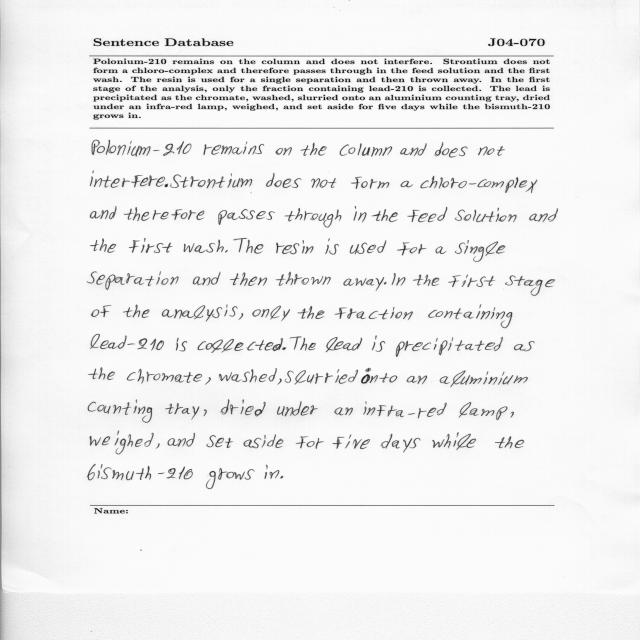word: (396, 337, 503, 357), (421, 176, 538, 193), (429, 305, 513, 328), (87, 464, 193, 481), (92, 140, 192, 157), (87, 272, 179, 290), (170, 173, 252, 193), (88, 399, 152, 423), (440, 370, 528, 387), (90, 431, 154, 454), (363, 402, 447, 419), (90, 171, 165, 188), (162, 305, 237, 322), (198, 338, 283, 353), (90, 334, 164, 351), (285, 369, 358, 385), (124, 207, 205, 221), (127, 369, 202, 384), (455, 240, 505, 262), (285, 208, 342, 227), (505, 275, 555, 296), (206, 468, 255, 489), (335, 307, 413, 320), (218, 209, 275, 225), (459, 402, 508, 420), (455, 208, 517, 222), (276, 271, 331, 286), (219, 368, 277, 382), (432, 432, 476, 450), (204, 142, 264, 155), (221, 400, 266, 417), (380, 434, 420, 453), (340, 143, 392, 157), (129, 238, 173, 253), (277, 401, 318, 416), (449, 275, 496, 288), (408, 207, 448, 222), (165, 403, 199, 420), (361, 368, 397, 384), (344, 277, 385, 291), (252, 306, 290, 321), (244, 434, 284, 448), (326, 337, 362, 352), (183, 240, 224, 253), (332, 435, 370, 449), (435, 142, 468, 158), (266, 173, 301, 188), (276, 240, 313, 254), (230, 272, 267, 286), (350, 241, 386, 255), (234, 238, 264, 254), (351, 177, 389, 189), (529, 209, 558, 223), (193, 272, 221, 286), (91, 238, 117, 253), (168, 433, 195, 447), (397, 243, 426, 256), (495, 436, 524, 449), (296, 436, 324, 449), (400, 143, 427, 156), (371, 209, 398, 222), (298, 306, 325, 319), (206, 435, 233, 448), (301, 143, 327, 156), (91, 207, 117, 220), (123, 305, 149, 318), (88, 368, 115, 380), (413, 275, 439, 286), (282, 336, 302, 350), (478, 146, 505, 156), (312, 178, 337, 188), (92, 305, 112, 317), (325, 238, 339, 255), (372, 335, 385, 352), (514, 341, 535, 351), (354, 207, 367, 223), (300, 338, 316, 351), (265, 465, 279, 479), (392, 273, 406, 286), (407, 376, 427, 385), (275, 147, 292, 156), (334, 408, 353, 416), (176, 338, 187, 351), (436, 247, 447, 254), (401, 181, 413, 187), (205, 377, 211, 385), (239, 313, 243, 320), (278, 378, 282, 385), (203, 410, 207, 417), (510, 412, 514, 418), (156, 443, 159, 449), (165, 184, 168, 187), (225, 250, 228, 252), (384, 282, 386, 285), (281, 476, 284, 478)
